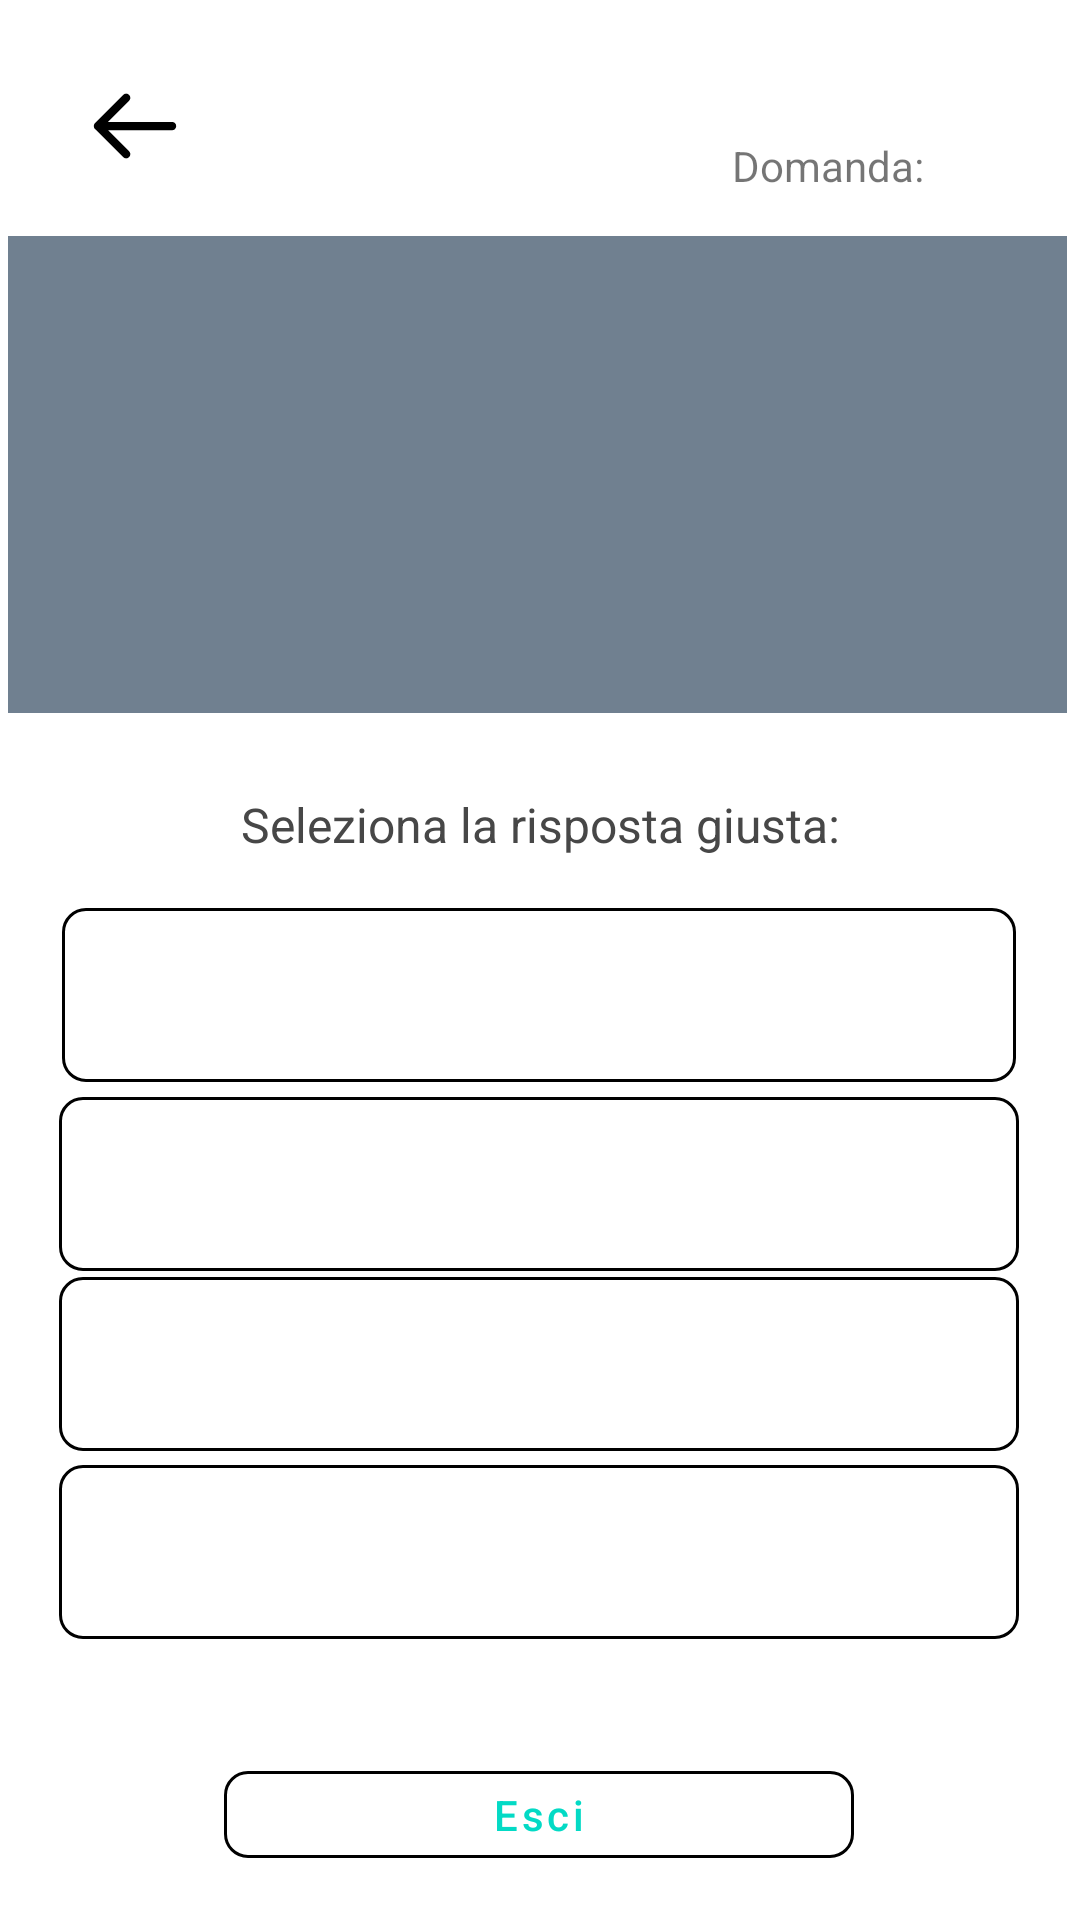

Named icons in this screenshot (1080x1920) and their centers, point (x, y):
back arrow: point (135, 126)
